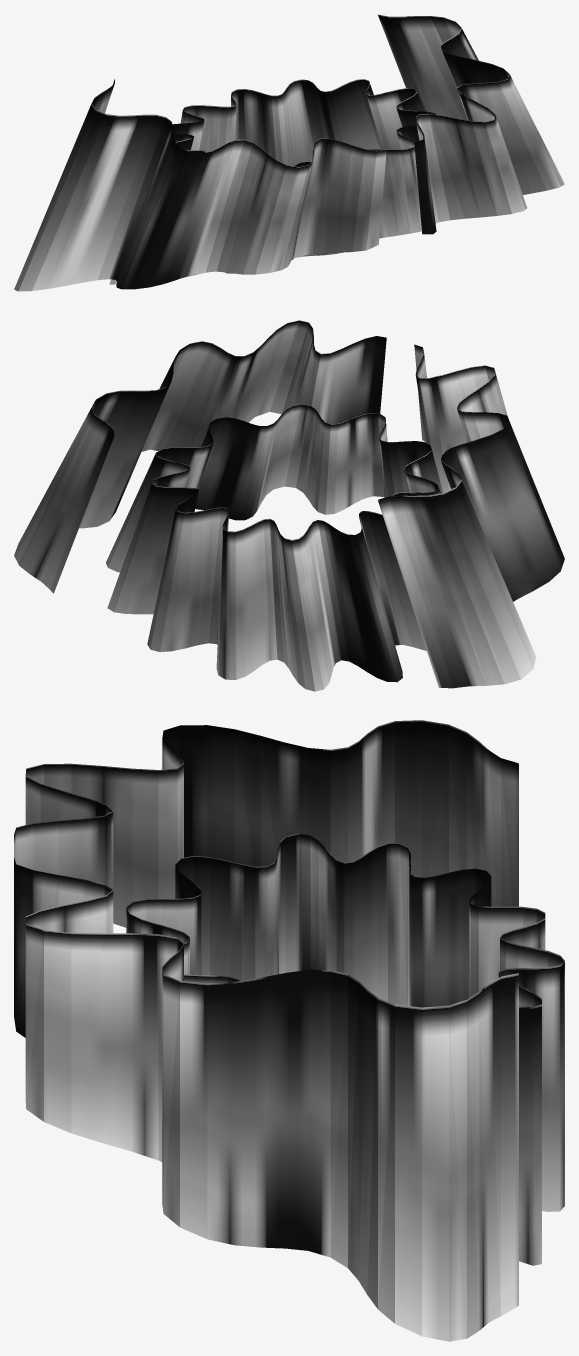
Rendered from bg_aurora.dae.
The picture shows the model from 3 angles, top to bottom: view 1: azimuth 30°, elevation 25°; view 2: azimuth 150°, elevation 25°; view 3: azimuth 270°, elevation 25°; orthographic projection. The views are drawn at different scales.
Parts seen in each view (by area): view 1: bg_aurora; view 2: bg_aurora; view 3: bg_aurora.
Part boxes in pixels (x1,y1,x2,y2): bg_aurora: (14, 14, 564, 291); bg_aurora: (14, 320, 564, 691); bg_aurora: (14, 720, 564, 1341).
Bounding box in the file's own units: 1067 × 430 × 604.
Materials: 1 (1 with a texture image).
